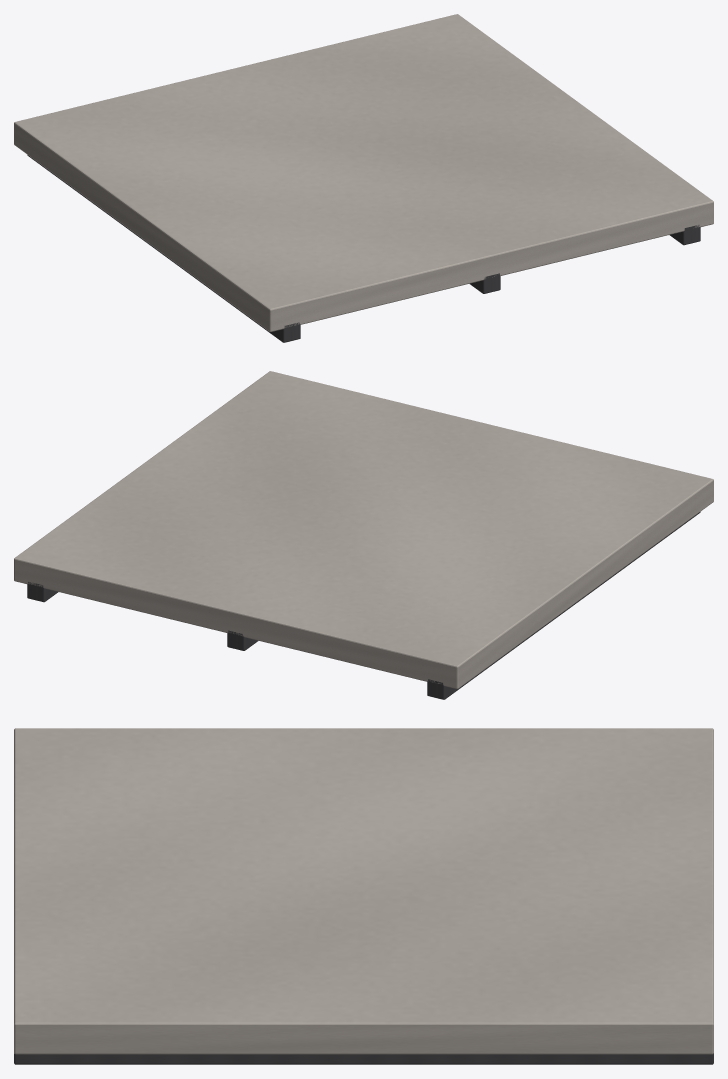
Rendered from industrial_ceiling_panel.glb.
3 views of the same model, one above another, from view 1: azimuth 30°, elevation 25°; view 2: azimuth 150°, elevation 25°; view 3: azimuth 270°, elevation 25° (orthographic). The views are drawn at different scales.
Parts seen in each view (by area): view 1: ceiling.003, beam; view 2: ceiling.003, beam; view 3: ceiling.003, beam.002.
Part boxes in pixels (x1,y1,x2,y2): ceiling.003: [14, 14, 713, 331]; beam: [27, 155, 300, 342]; ceiling.003: [14, 371, 713, 688]; beam: [427, 512, 700, 699]; ceiling.003: [14, 728, 713, 1054]; beam.002: [14, 1053, 713, 1064].
Bounding box in the file's own units: 2 × 0.18 × 2.
Materials: 3 (2 with a texture image).
